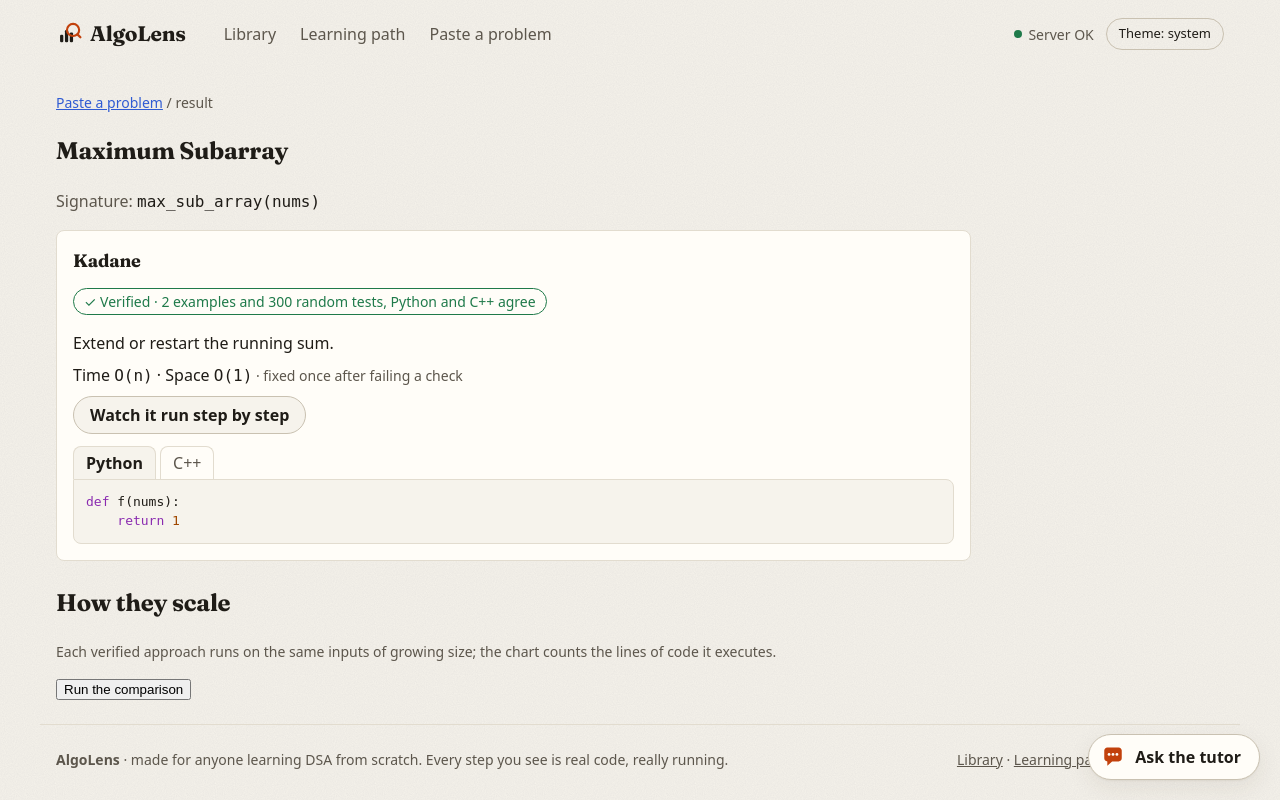
it: code switches between Python and C++
expect the panel reads "def f(nums): return 1": met, box 73,479 -> 954,544
expect the text "def" is shown: met, box 86,494 -> 110,509
Click the tab "C++".
click(187, 462)  # box 160,446 -> 214,479
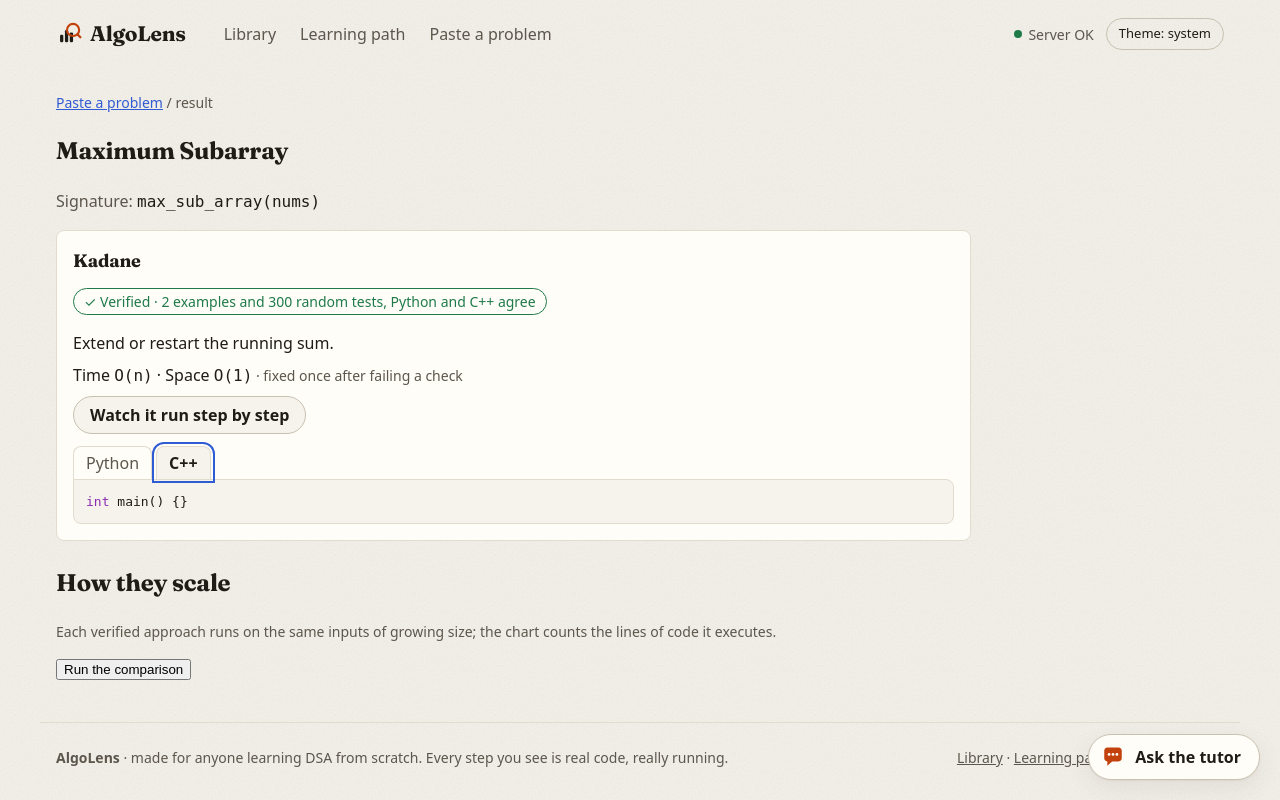
expect the panel reads "int main() {}": met, box 73,479 -> 954,524
